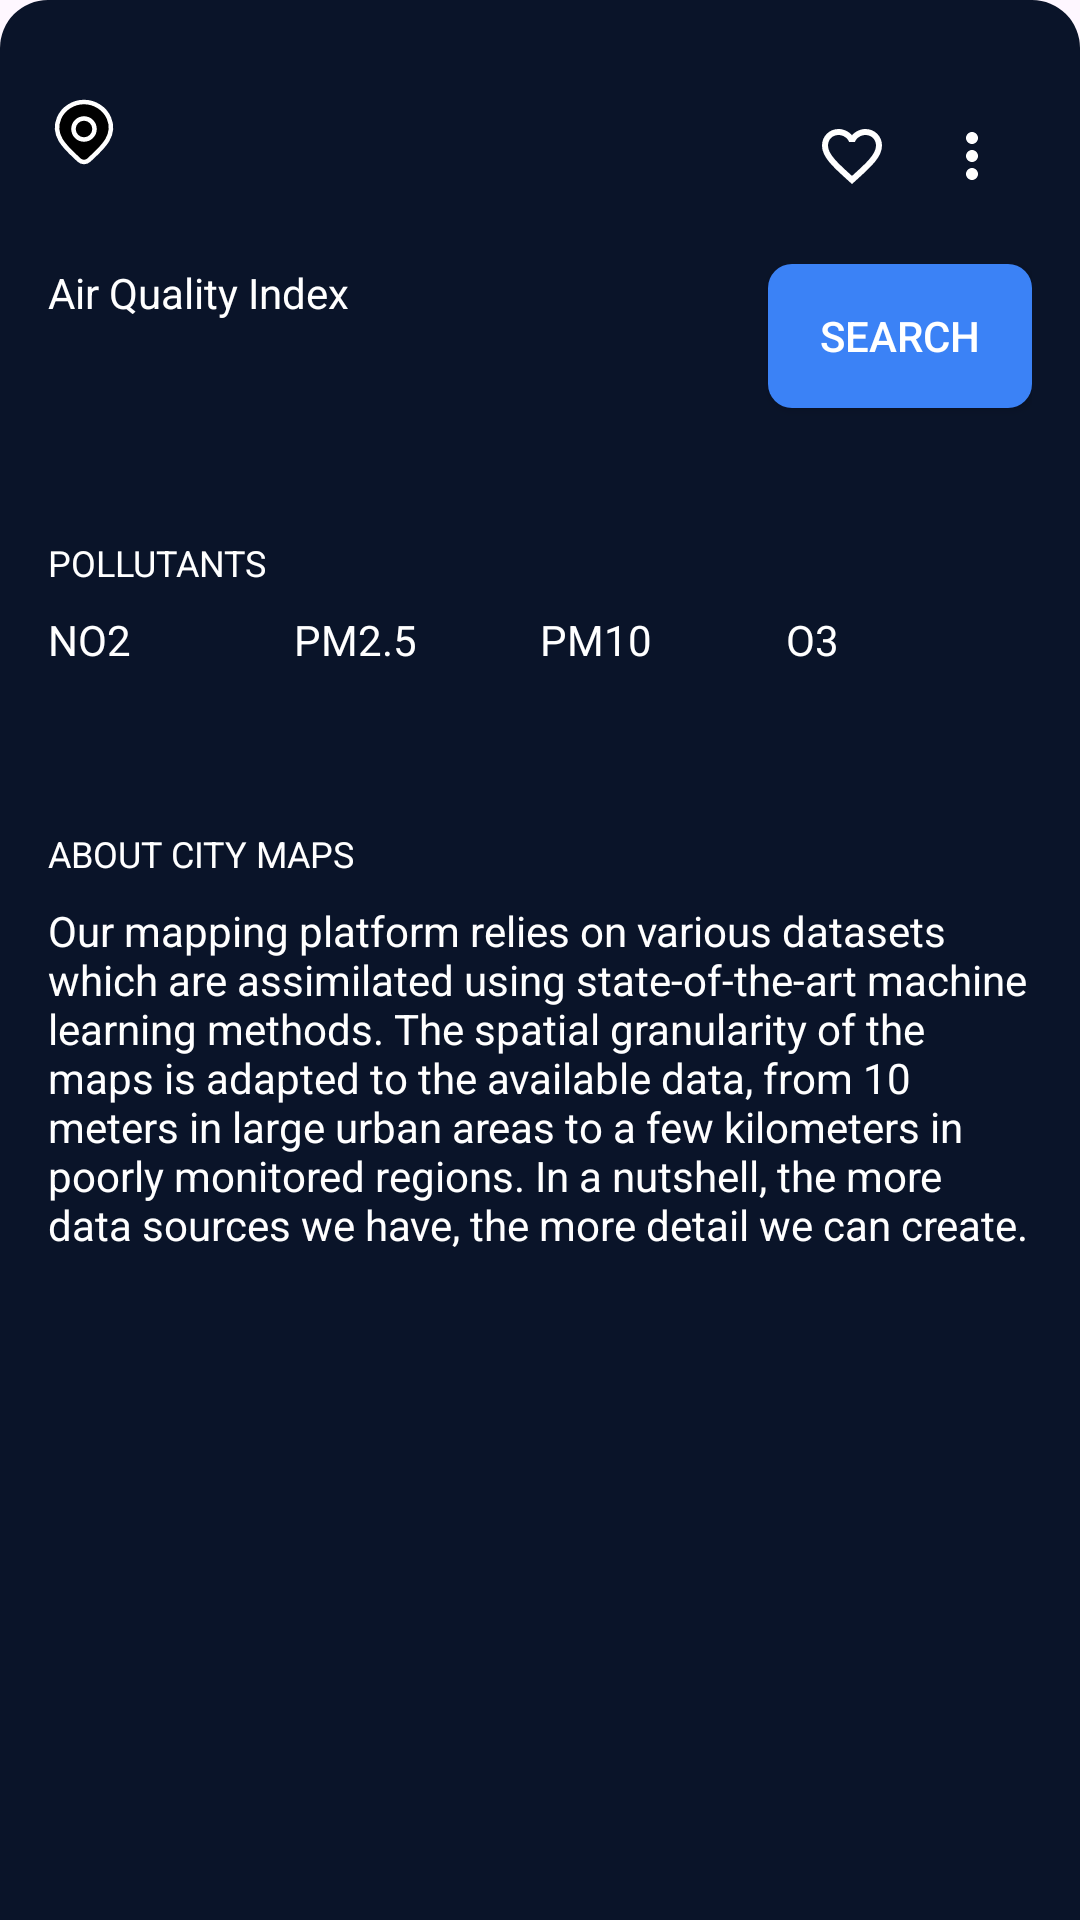

Named icons in this screenshot (1080×1920) and their centers, point (x, y):
favorite: point (852, 156)
location: point (84, 132)
more: point (972, 156)
